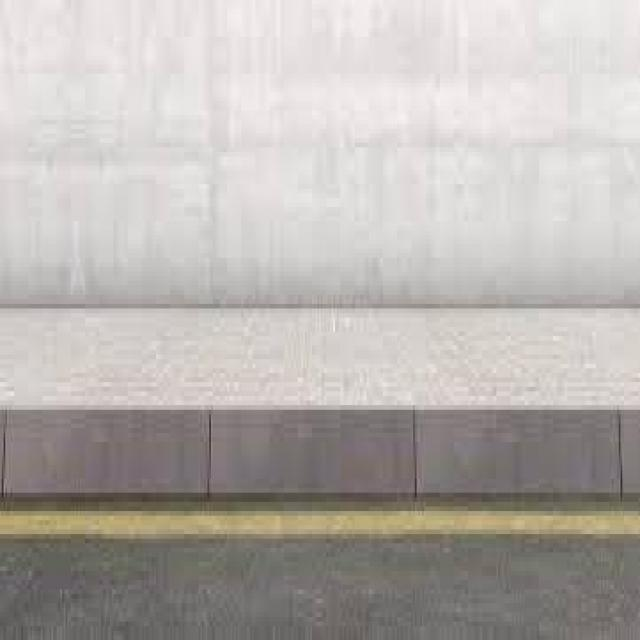curb: (205, 364, 424, 516), (414, 380, 631, 508), (3, 382, 217, 492)
